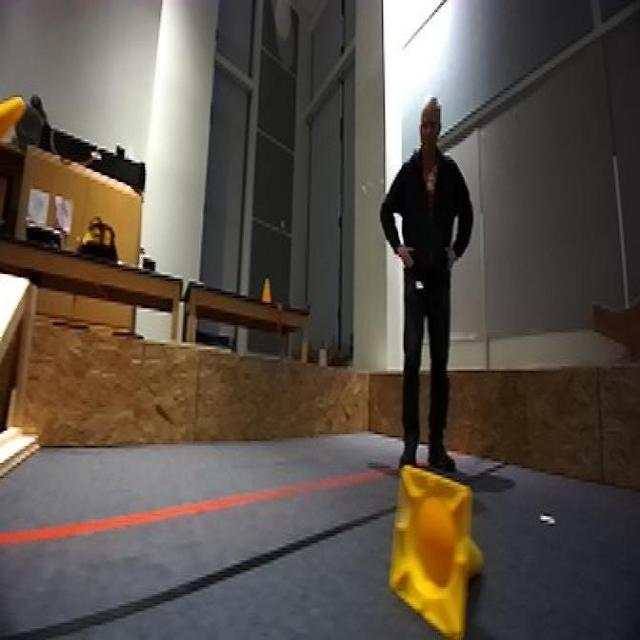frc_cone: (388, 459, 482, 636), (0, 83, 34, 176)
